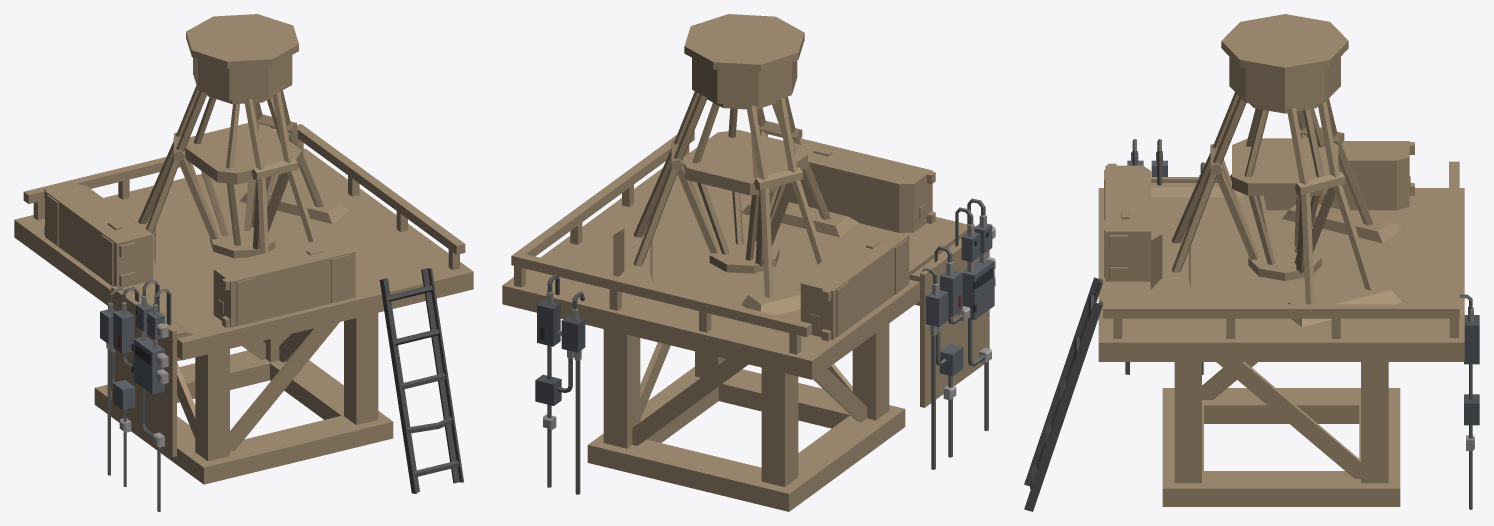
The model's file is SM_Prop_Satelite_Dish_02.glb.
3 views of the same model, side by side, from view 1: azimuth 30°, elevation 25°; view 2: azimuth 150°, elevation 25°; view 3: azimuth 270°, elevation 25° (orthographic). The views are drawn at different scales.
Visible parts, largest first — view 1: SM_Prop_Satelite_Dish_02; view 2: SM_Prop_Satelite_Dish_02; view 3: SM_Prop_Satelite_Dish_02.
Boxes of the visible parts, box(x1,y1,x2,y2) form: SM_Prop_Satelite_Dish_02: box(14, 14, 473, 511); SM_Prop_Satelite_Dish_02: box(502, 14, 995, 511); SM_Prop_Satelite_Dish_02: box(1024, 14, 1479, 511).
Bounding box in the file's own units: 3.63 × 4.31 × 4.26.
Materials: 1 (1 with a texture image).
